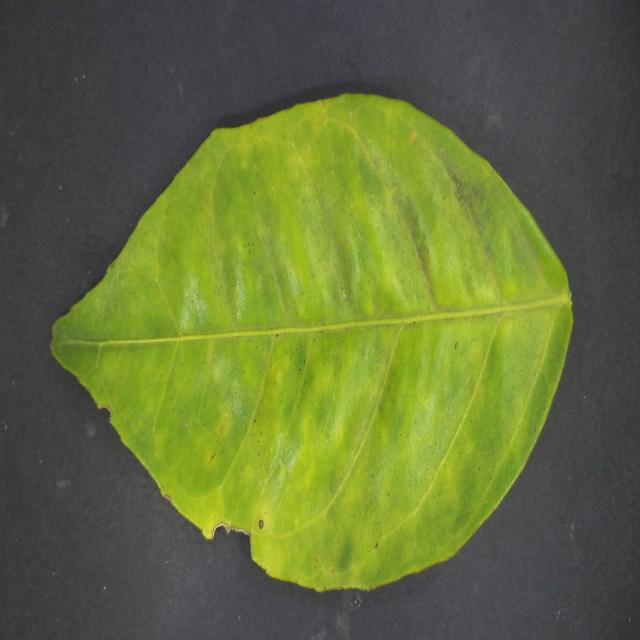greening: (51, 94, 572, 589)
